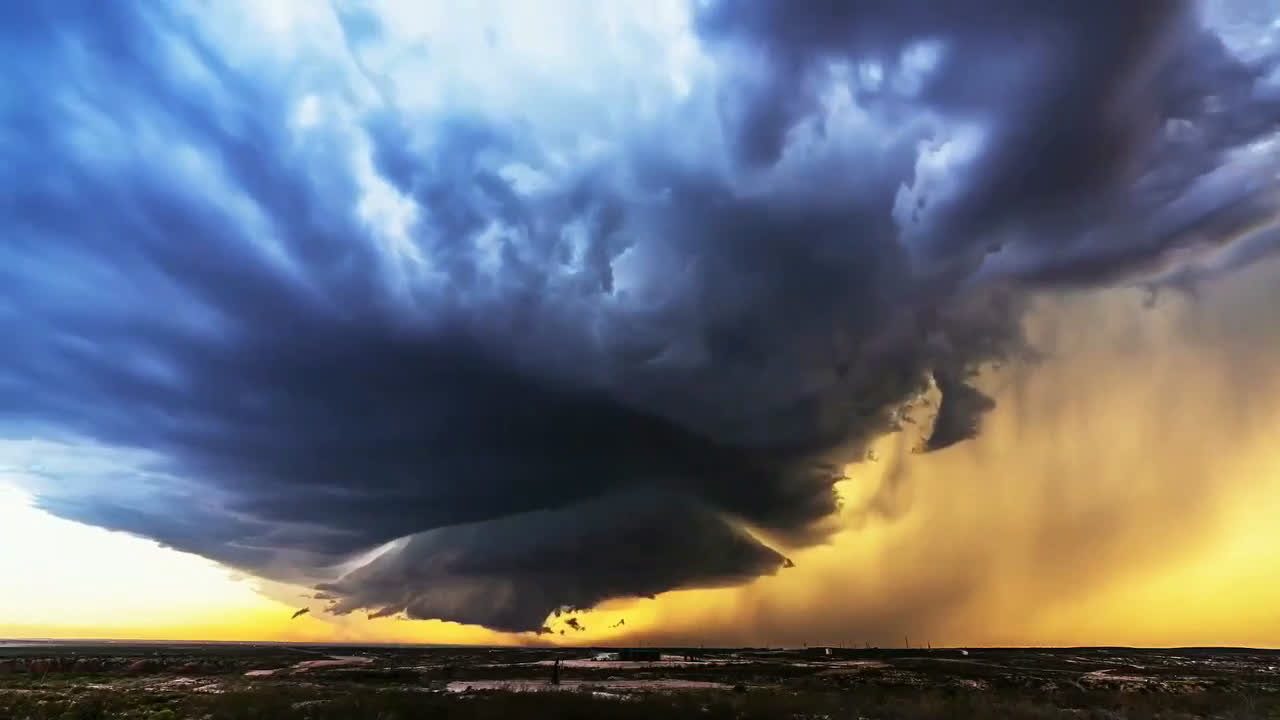FFD: (801, 249, 1280, 647)
RFD: (495, 563, 793, 647)
mesocyclone: (108, 199, 995, 638)
wall cloud: (292, 486, 795, 636)
